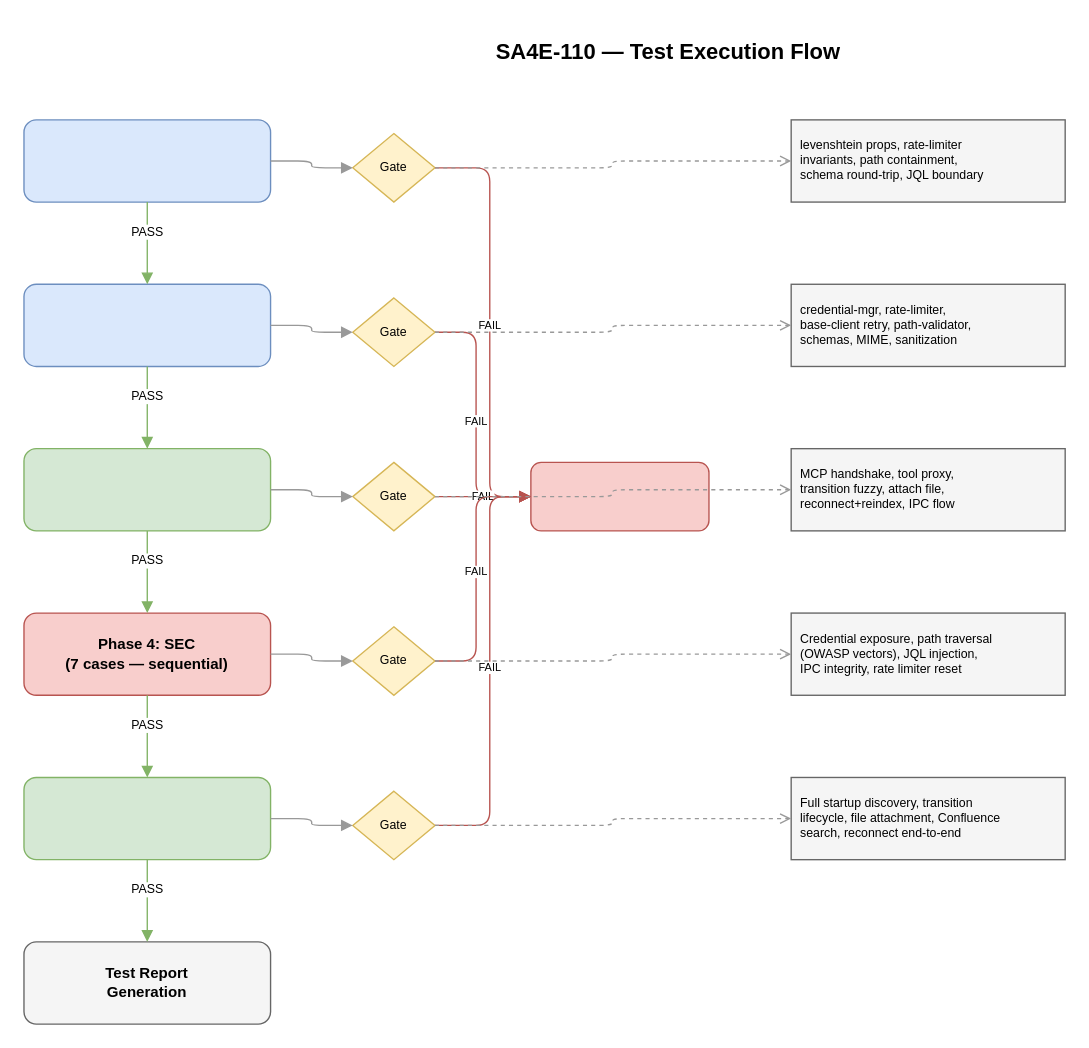
Image size: 1089x1048. Some labels were removed from this diagram. Here are the shapes that lost their labels. From the top down, the centre of each, then its label:
the point at 147,160: Phase 1: PBT (8 cases — parallel)
the point at 147,324: Phase 2: UT (22 cases — parallel)
the point at 147,489: Phase 3: IT (14 cases — sequential)
the point at 619,496: FAIL: Fix + Rerun
the point at 147,818: Phase 5: E2E-API (9 cases — sequential)
